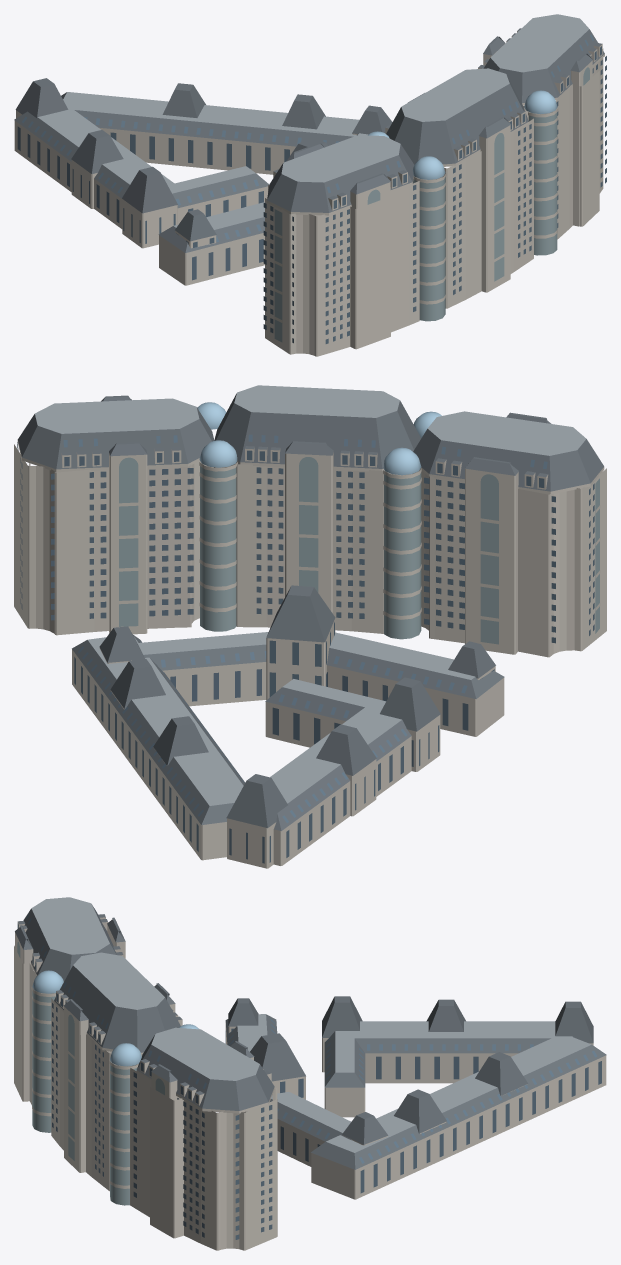
File: dal-the-crescent.glb
The picture shows the model from 3 angles, top to bottom: view 1: azimuth 30°, elevation 25°; view 2: azimuth 150°, elevation 25°; view 3: azimuth 270°, elevation 25°; orthographic projection. The views are drawn at different scales.
Visible parts, largest first — view 1: The Crescent; view 2: The Crescent; view 3: The Crescent.
Boxes of the visible parts, box(x1,y1,x2,y2) form: The Crescent: box(14, 14, 606, 356); The Crescent: box(14, 385, 606, 868); The Crescent: box(14, 897, 606, 1250).
Size of the model in its own units: 186 by 76 by 234.
